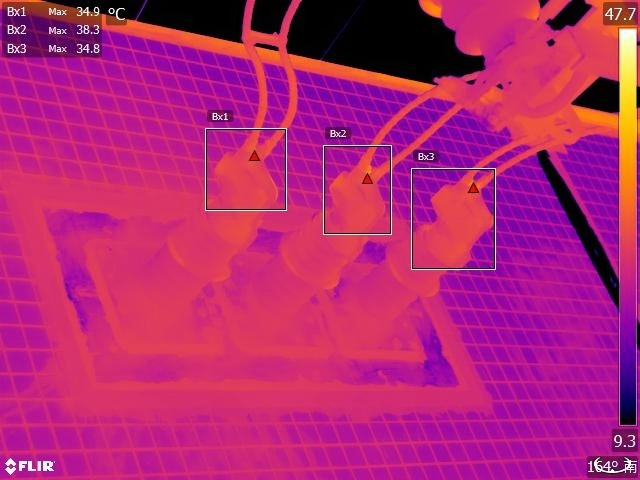tube: (141, 152, 285, 337), (264, 150, 407, 320), (352, 175, 502, 333)
